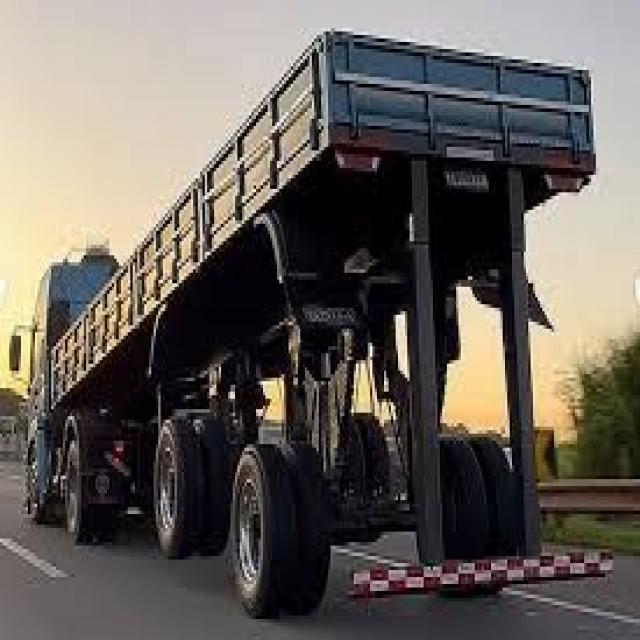truck: (1, 117, 635, 621)
